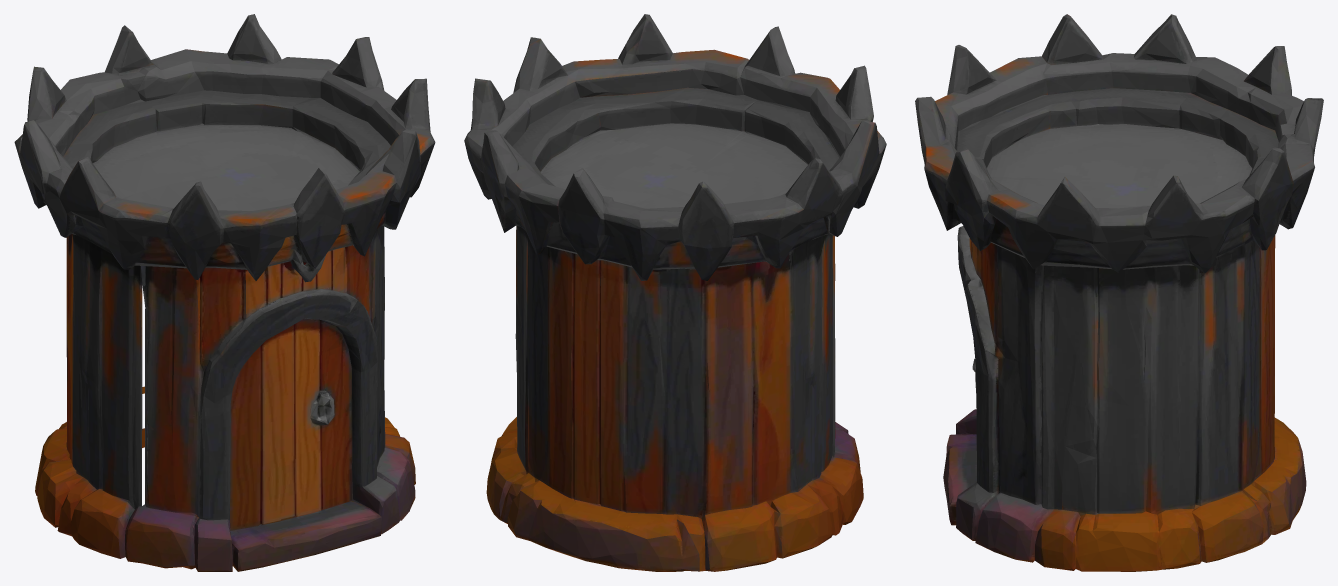
The model's file is fortified_tower.glb.
3 renders of one model, left to right at view 1: azimuth 30°, elevation 25°; view 2: azimuth 150°, elevation 25°; view 3: azimuth 270°, elevation 25°, orthographic.
Bounding box in the file's own units: 1.82 × 1.98 × 1.85.
1 material, 1 textured.
